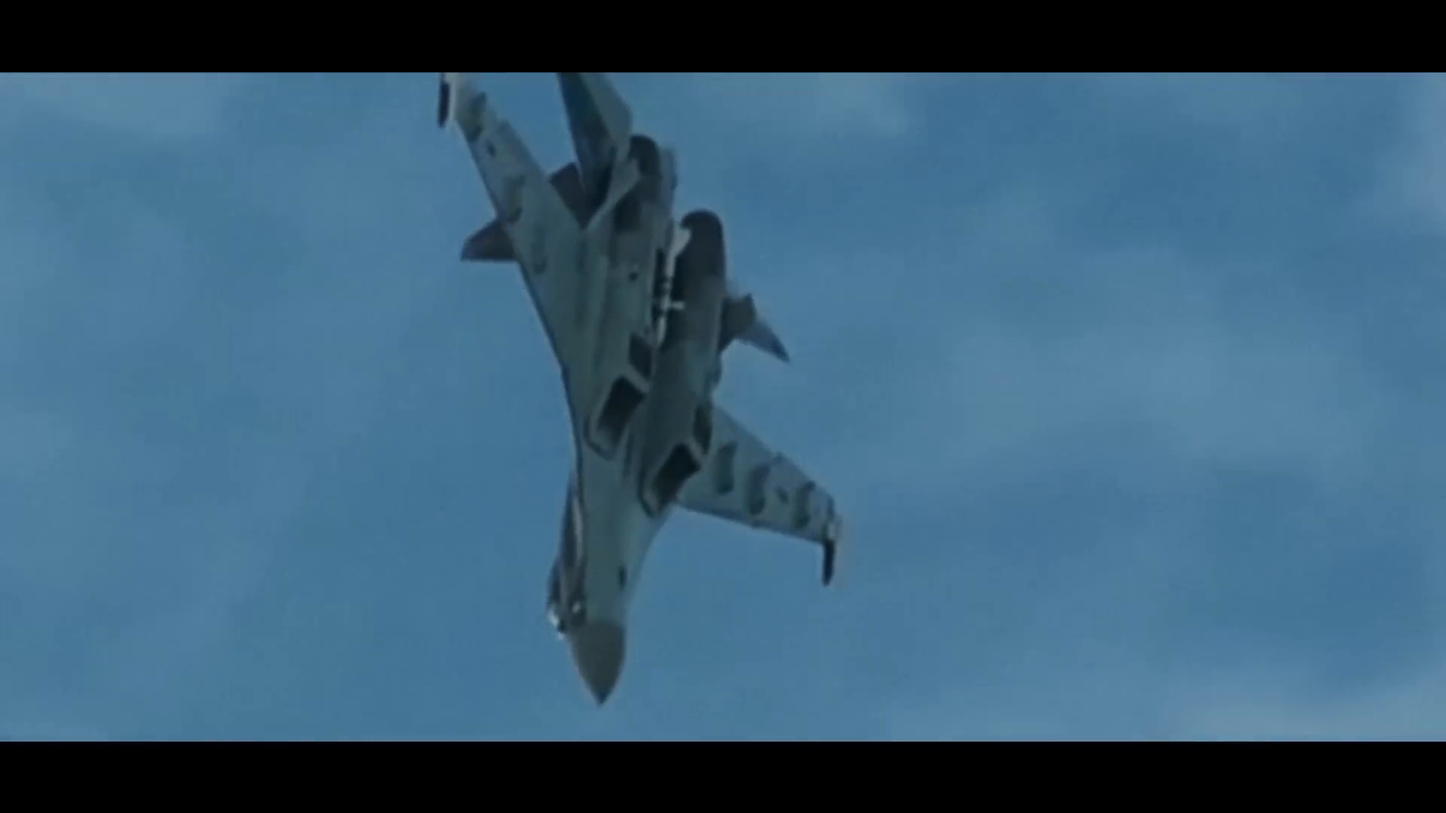Su35: (436, 72, 839, 705)
